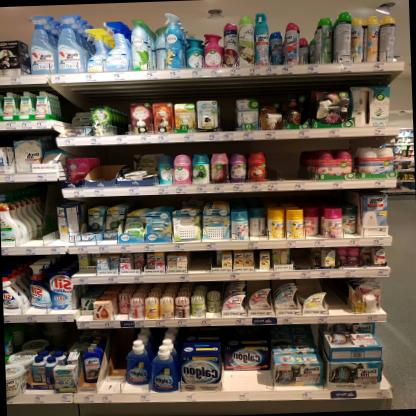empty_space: (99, 338, 133, 397), (15, 203, 56, 249), (270, 151, 316, 184), (321, 280, 353, 318), (188, 255, 211, 275)
